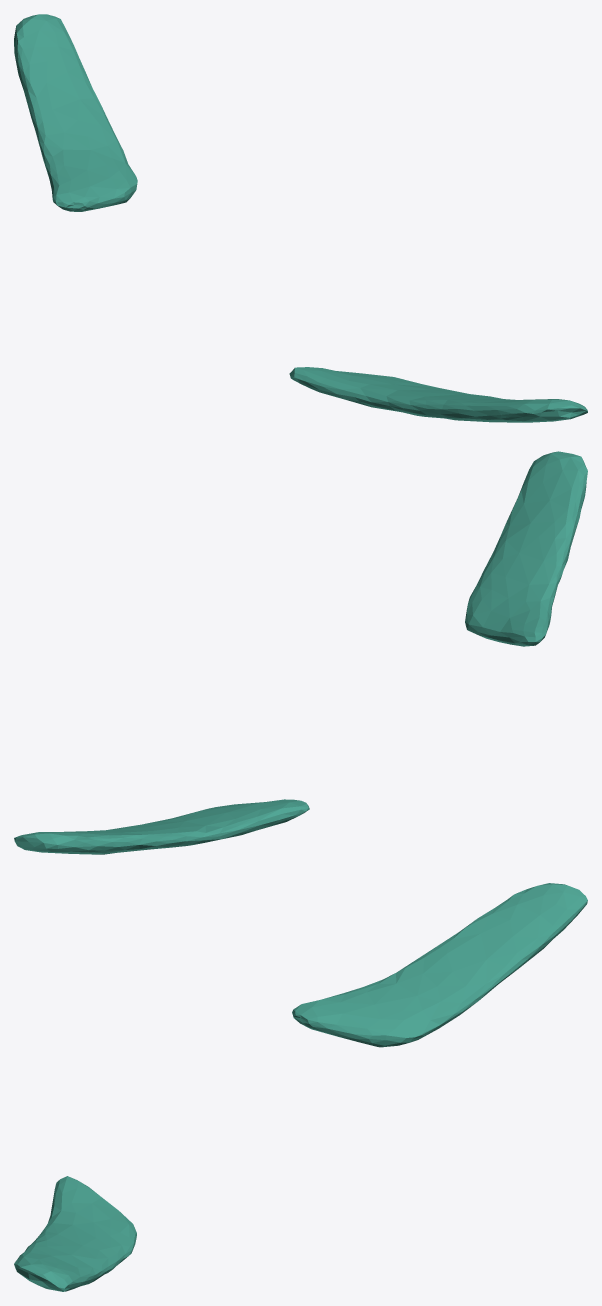
3 views of the same model, one above another, from view 1: azimuth 30°, elevation 25°; view 2: azimuth 150°, elevation 25°; view 3: azimuth 330°, elevation 25° (orthographic).
Visible parts, largest first — view 1: 1006.obj; view 2: 1006.obj; view 3: 1006.obj.
Boxes of the visible parts, x1=… form: 1006.obj: x1=14, y1=14, x2=587, y2=422; 1006.obj: x1=14, y1=451, x2=587, y2=854; 1006.obj: x1=14, y1=883, x2=587, y2=1291.
Size of the model in its own units: 885 by 430 by 5438.
